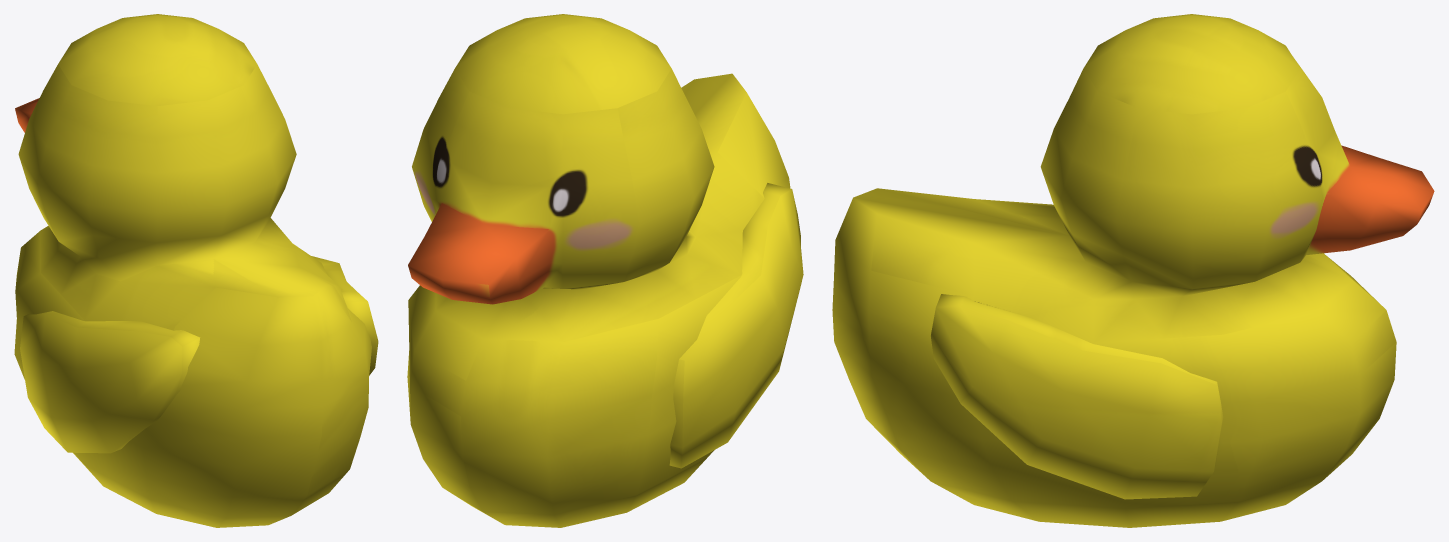
Rendered from Pato.fbx.
3 views of the same model, side by side, from view 1: azimuth 30°, elevation 25°; view 2: azimuth 150°, elevation 25°; view 3: azimuth 270°, elevation 25° (orthographic). The views are drawn at different scales.
Parts seen in each view (by area): view 1: pato; view 2: pato; view 3: pato.
Boxes of the visible parts, bbox=[...] form: pato: bbox=[14, 14, 378, 527]; pato: bbox=[407, 14, 803, 527]; pato: bbox=[832, 14, 1434, 527].
Bounding box in the file's own units: 24.36 × 35.11 × 42.
Materials: 1 (1 with a texture image).
